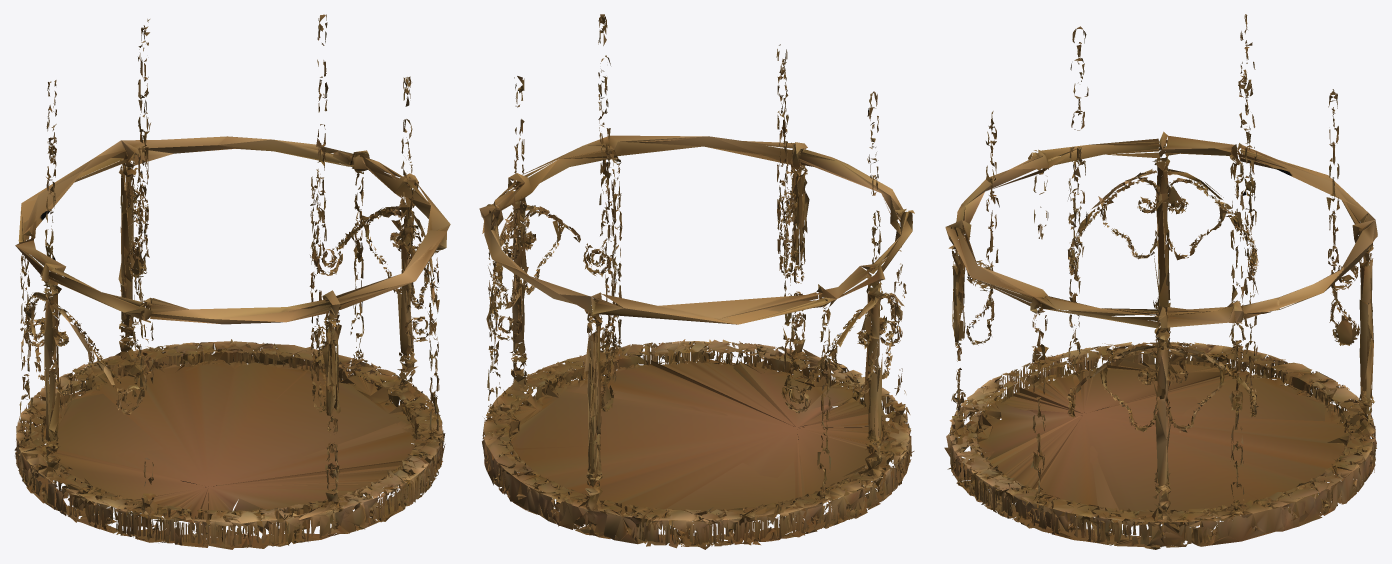
File: lift_platform.glb
3 views of the same model, side by side, from view 1: azimuth 30°, elevation 25°; view 2: azimuth 150°, elevation 25°; view 3: azimuth 270°, elevation 25° (orthographic).
Parts seen in each view (by area): view 1: lift_platform_body; view 2: lift_platform_body; view 3: lift_platform_body.
Part boxes in pixels (left/top/right/bottom): lift_platform_body: left=14, top=14, right=450, bottom=549; lift_platform_body: left=479, top=14, right=914, bottom=549; lift_platform_body: left=944, top=14, right=1377, bottom=549.
Size of the model in its own units: 2.5 by 2.43 by 2.51.
1 material, 1 textured.
